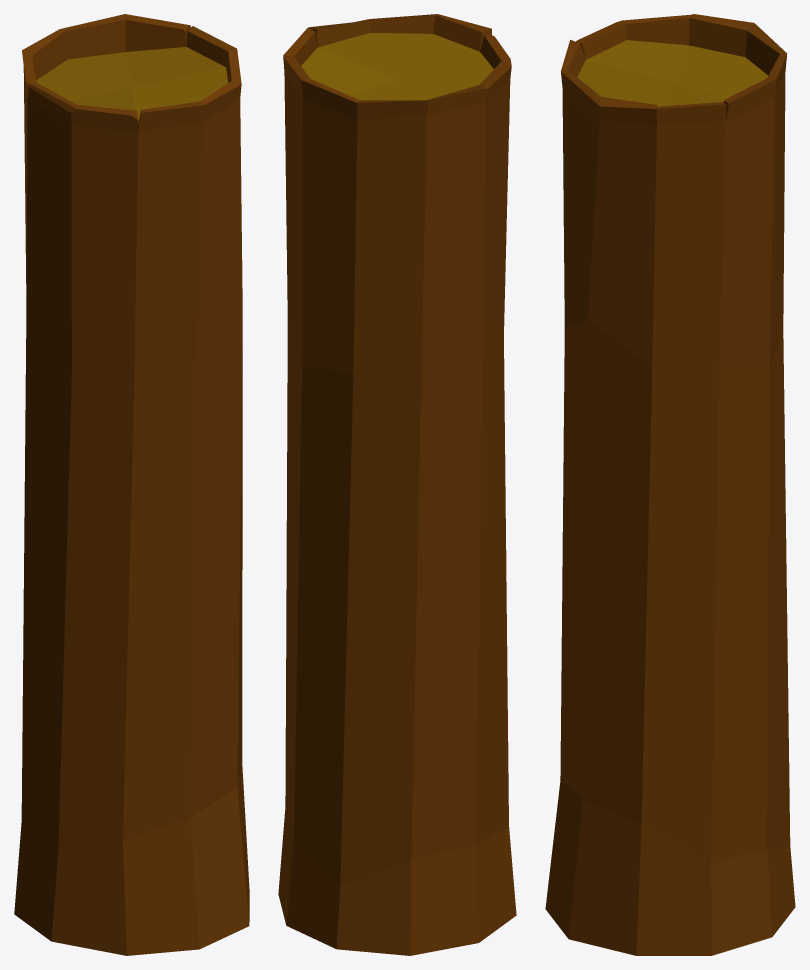
The model's file is log.glb.
3 renders of one model, left to right at view 1: azimuth 30°, elevation 25°; view 2: azimuth 150°, elevation 25°; view 3: azimuth 270°, elevation 25°, orthographic.
Visible parts, largest first — view 1: Log; view 2: Log; view 3: Log.
Boxes of the visible parts, x1,y1,x2,y2 form: Log: [14, 14, 249, 955]; Log: [278, 14, 516, 955]; Log: [545, 14, 795, 955].
Size of the model in its own units: 1.49 by 6.03 by 1.61.
